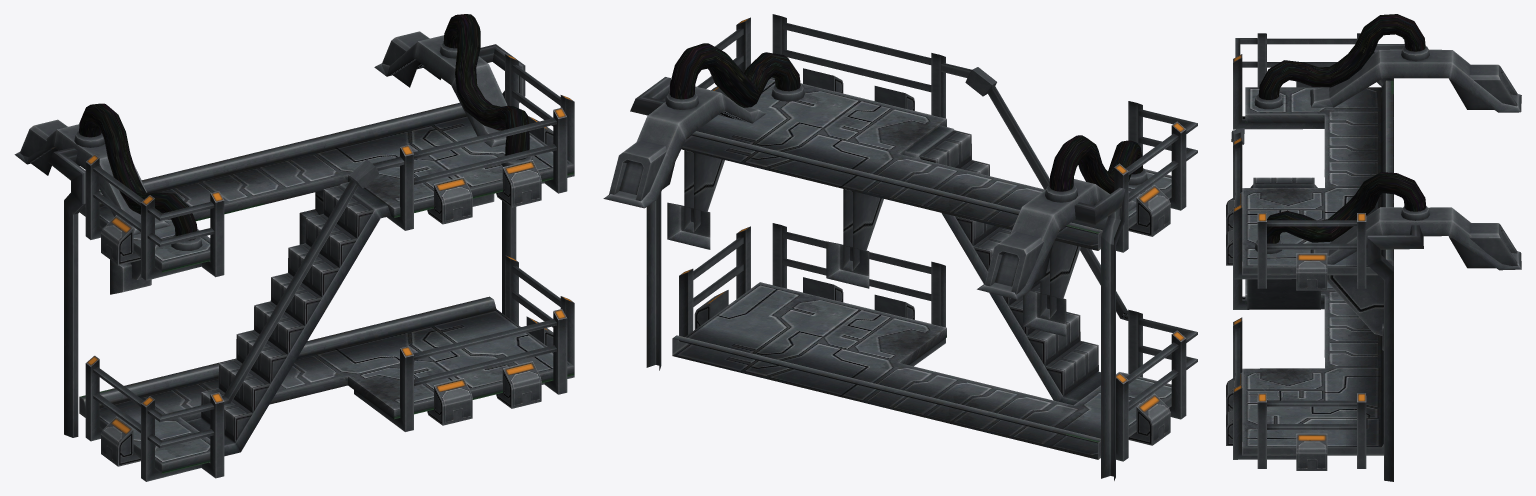
File: cliffscaffolding_00.fbx
3 renders of one model, left to right at view 1: azimuth 30°, elevation 25°; view 2: azimuth 150°, elevation 25°; view 3: azimuth 270°, elevation 25°, orthographic. The views are drawn at different scales.
Parts seen in each view (by area): view 1: Geoset_1, Geoset_0; view 2: Geoset_1, Geoset_0; view 3: Geoset_1, Geoset_0.
Part boxes in pixels (x1,y1,x2,y2): Geoset_1: (14,31,574,481); Geoset_0: (79,14,529,240); Geoset_1: (603,14,1197,480); Geoset_0: (669,43,1142,193); Geoset_1: (1226,33,1521,481); Geoset_0: (1258,14,1426,243).
Bounding box in the file's own units: 3.83 × 2.6 × 2.42.
Materials: 2 (2 with a texture image).
